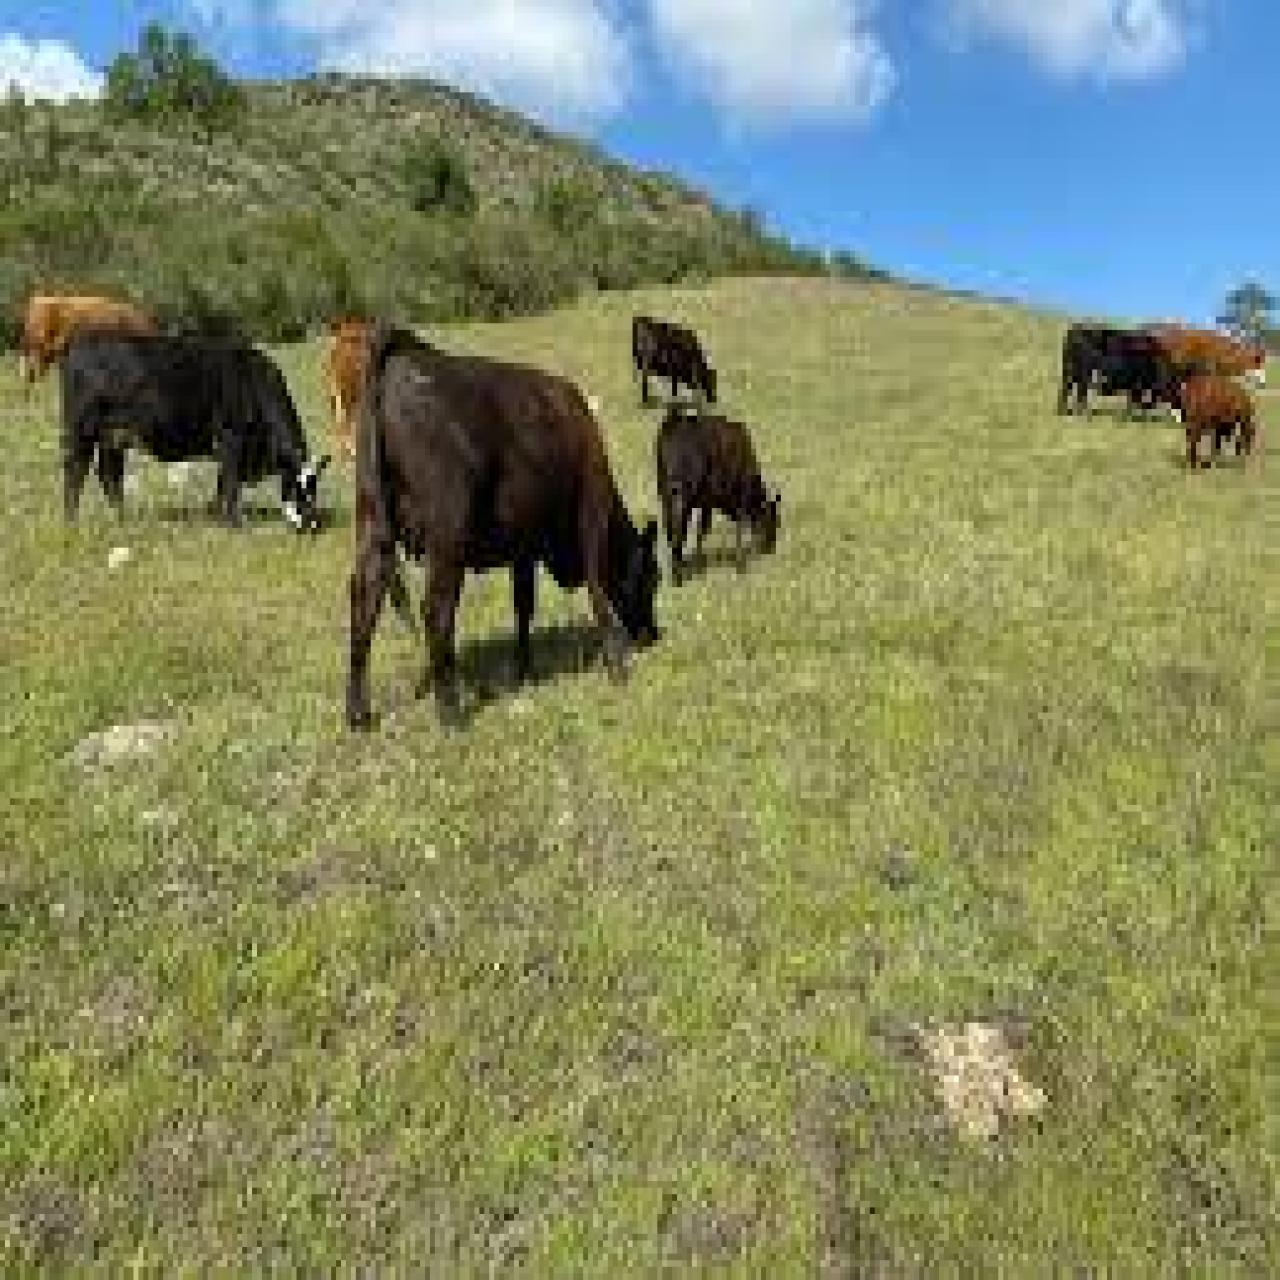cow: (346, 333, 662, 736), (52, 333, 333, 531), (655, 406, 783, 584), (22, 294, 161, 400), (1061, 324, 1184, 429), (627, 309, 722, 409), (326, 311, 381, 469), (1178, 380, 1258, 471), (1157, 327, 1271, 380)
